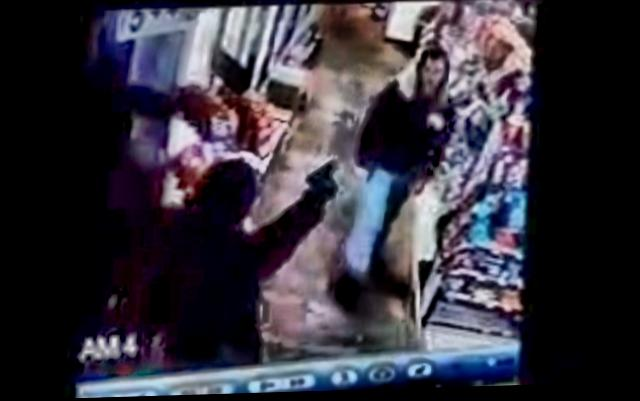pistol: (305, 157, 346, 212)
